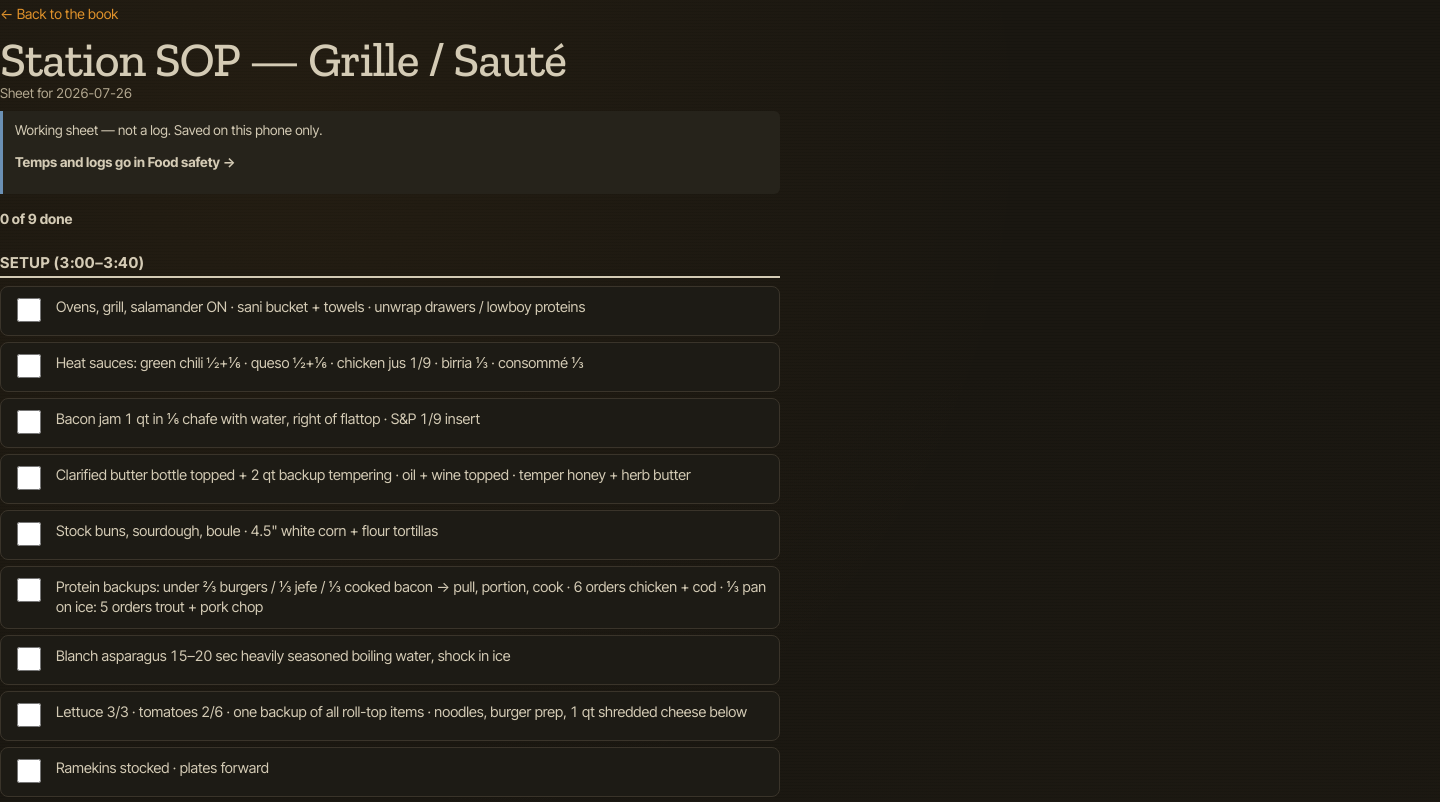
Scenario: SheetBoard — copy for the handoff board › copies the filled sheet as text
Click the 1st checkbox: x=29, y=310 x1=17 y1=298 x2=41 y2=322
(page scrolled)
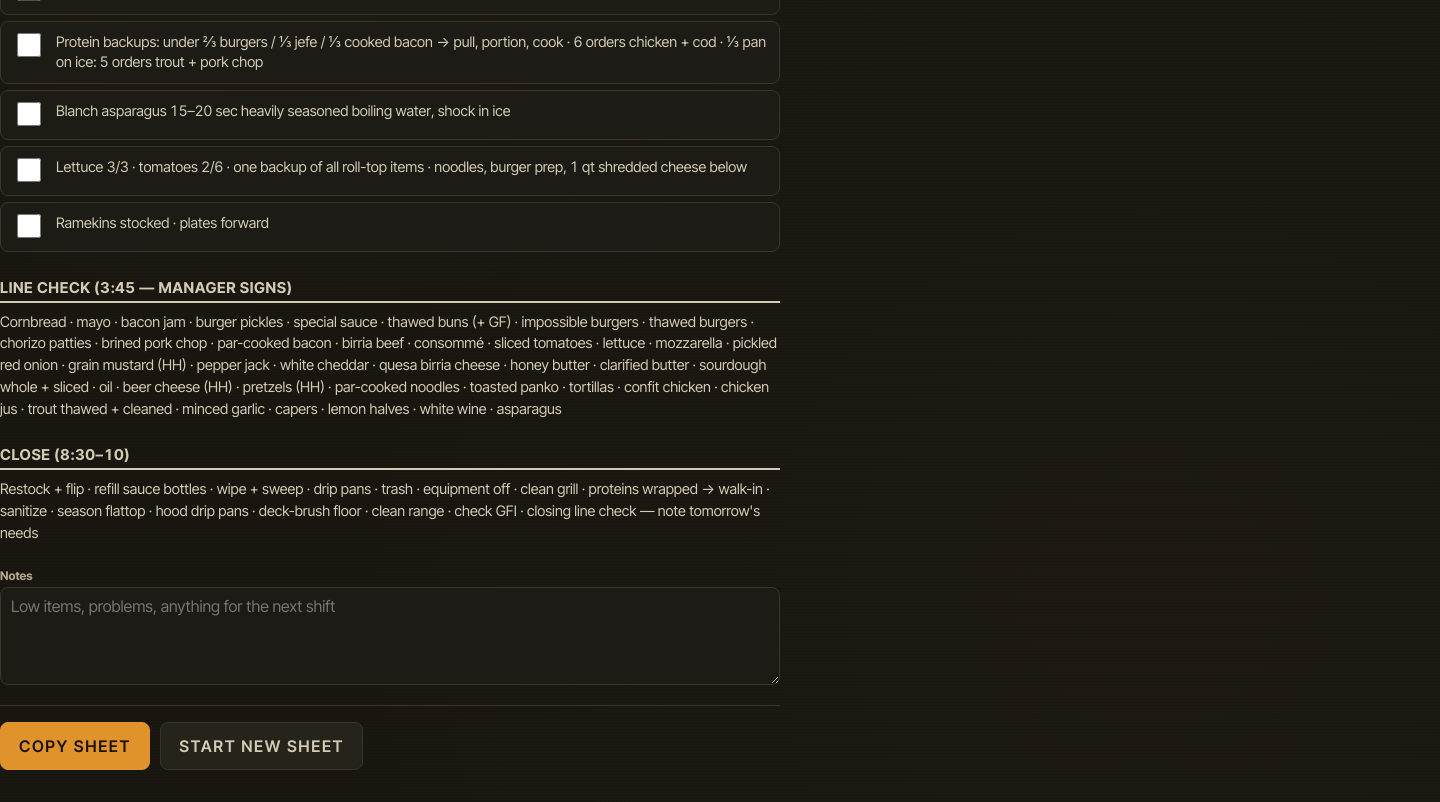
In the text box with placeholder "Low items, problems, anything for the next shift": x=390, y=636 x1=0 y1=586 x2=780 y2=684, type "Salamander running cold"
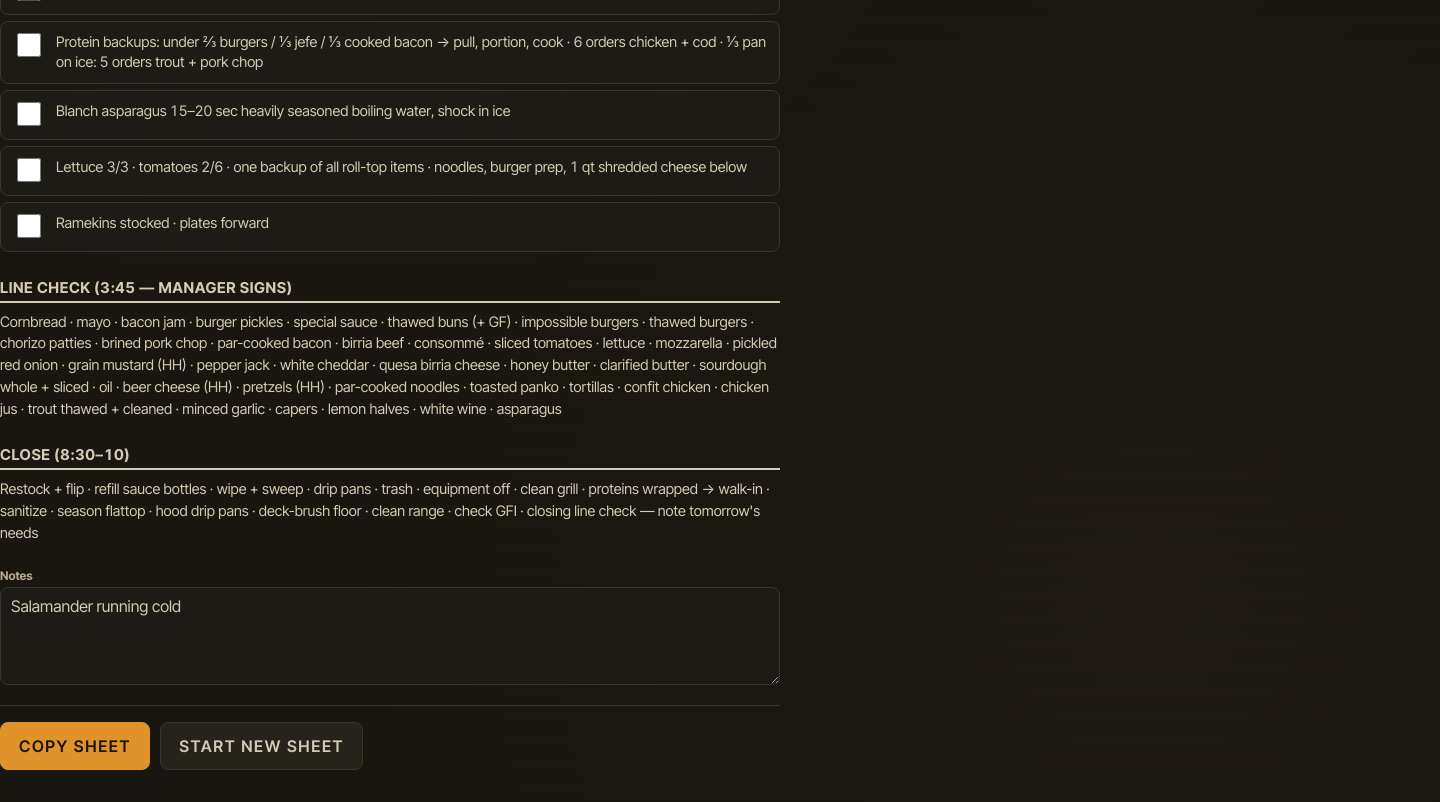
Click the button "Copy sheet": x=75, y=746 x1=0 y1=722 x2=150 y2=770
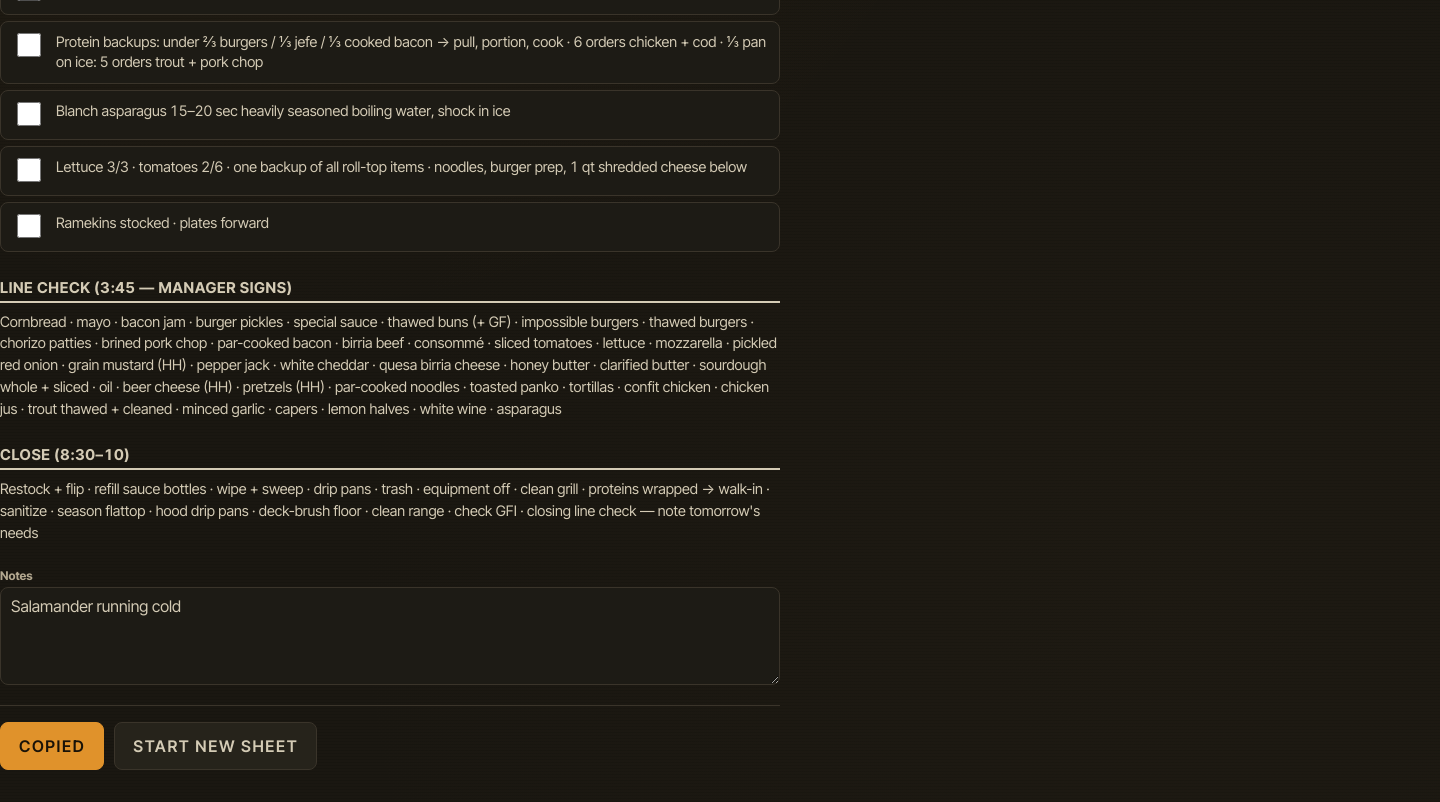
Result: the button "Copied" is shown at x1=0 y1=722 x2=104 y2=770
